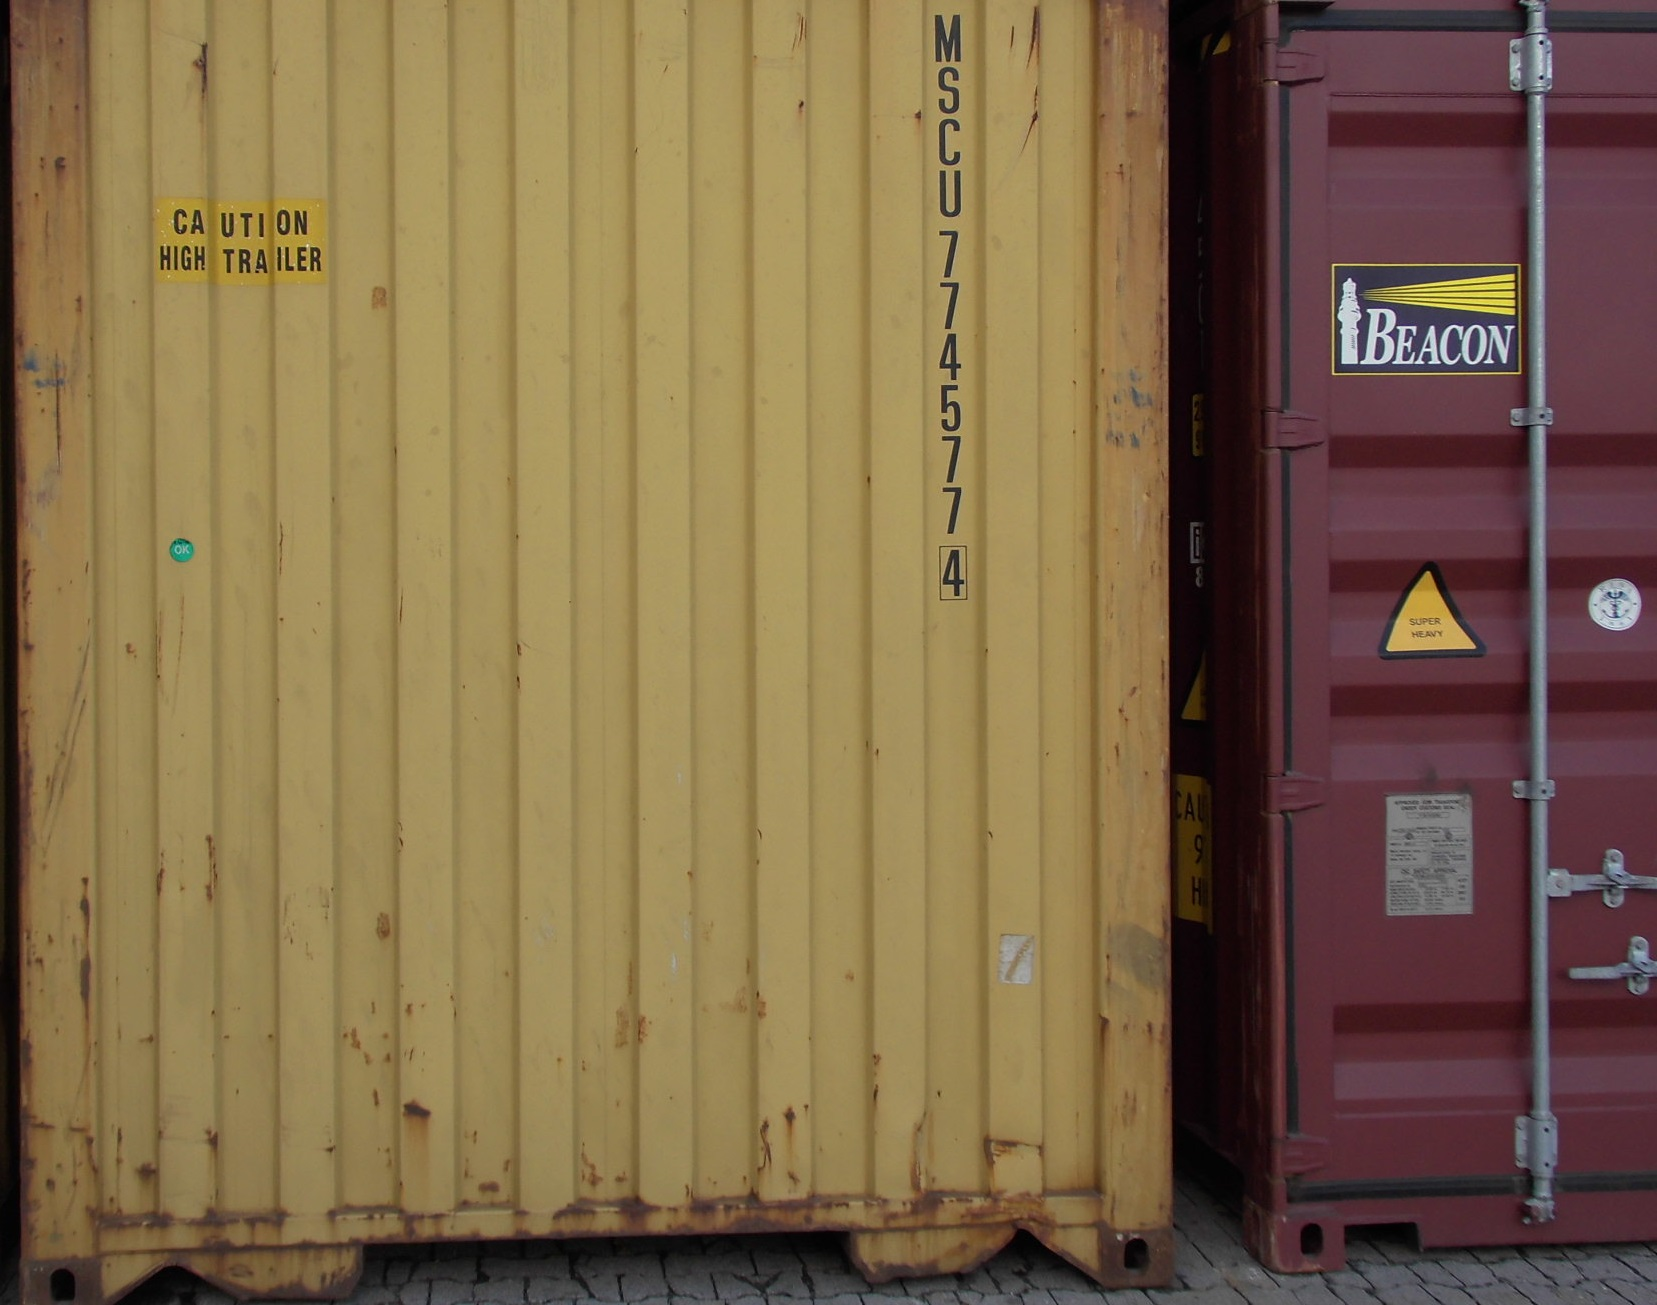container_door: (1264, 9, 1633, 1265)
container_no_door: (38, 4, 1173, 1283)
